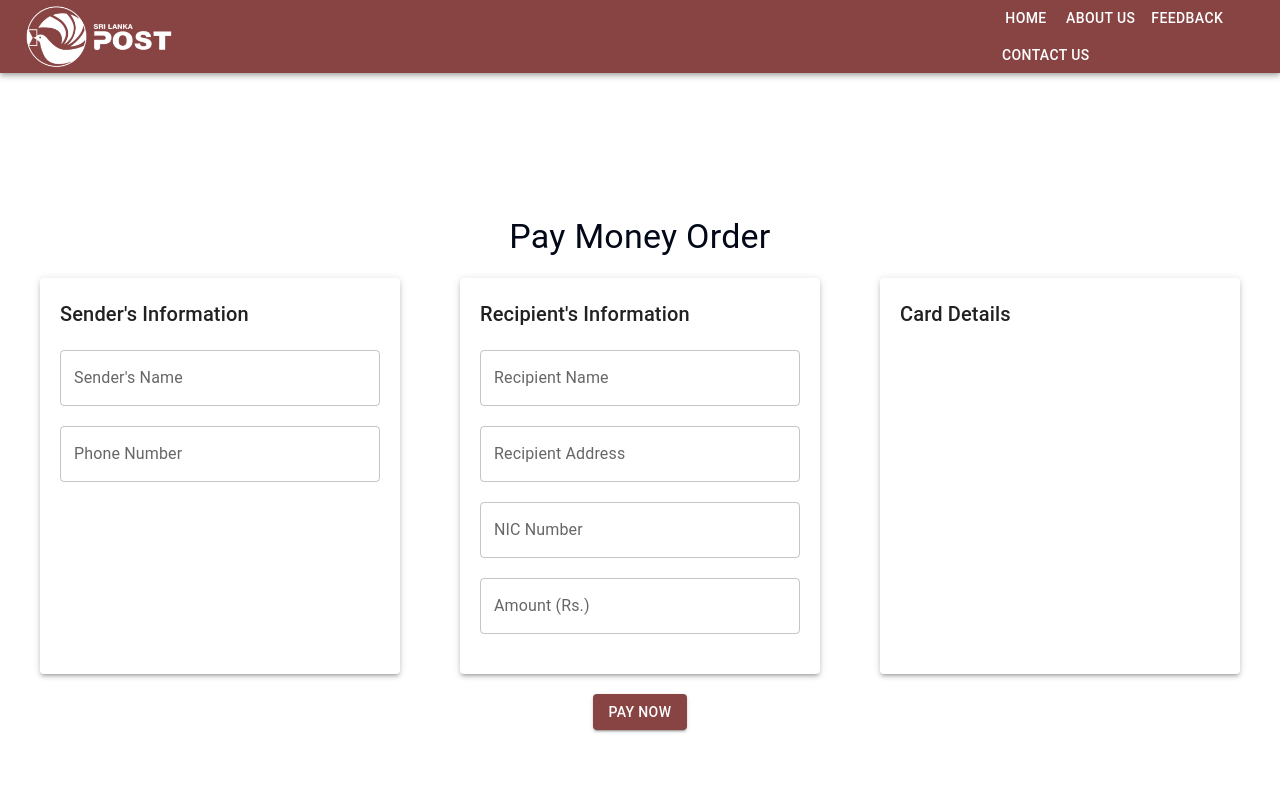
Scenario: Pay Money Order › should show an error message when required fields are empty
Click the Pay Now button without filling out the form
Click the button "Pay Now". click: (641, 713)
box: [593, 694, 688, 731]
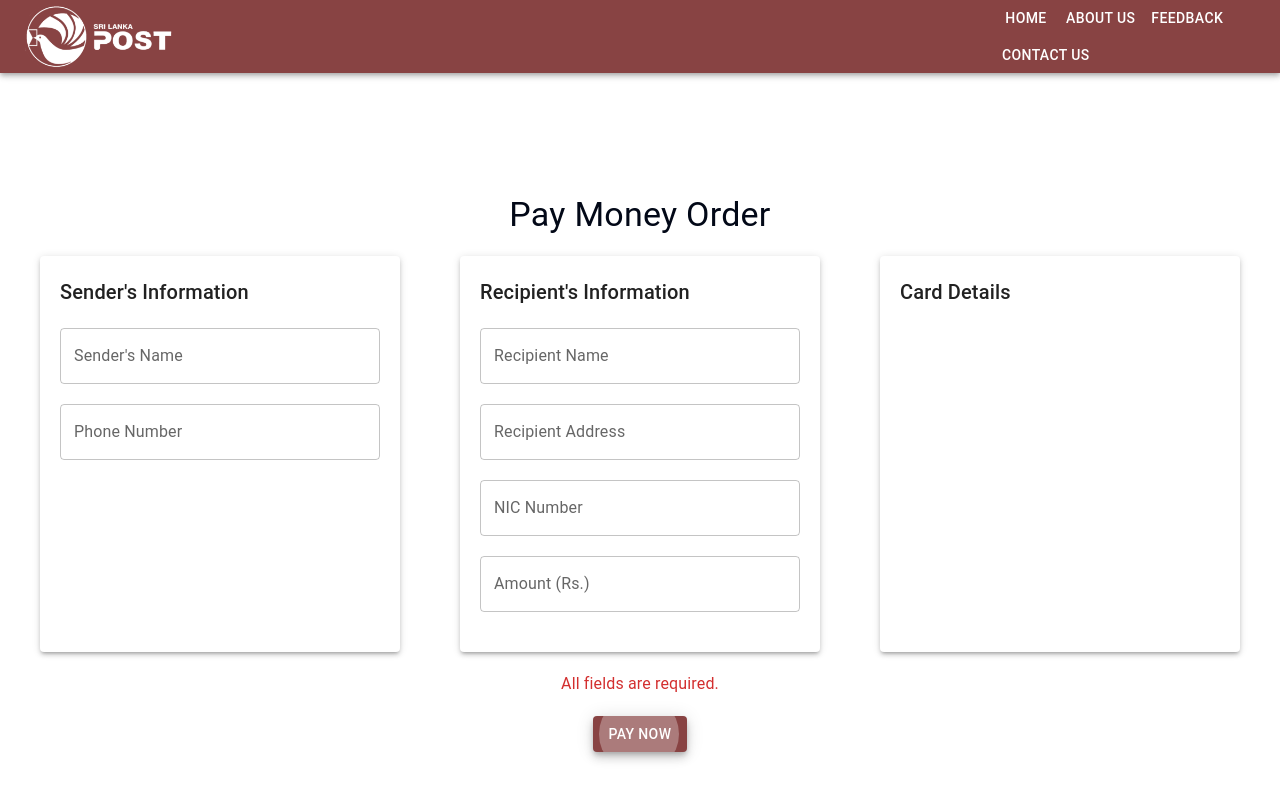
Expected: the text "All fields are required." is shown, [561, 672, 719, 696]
